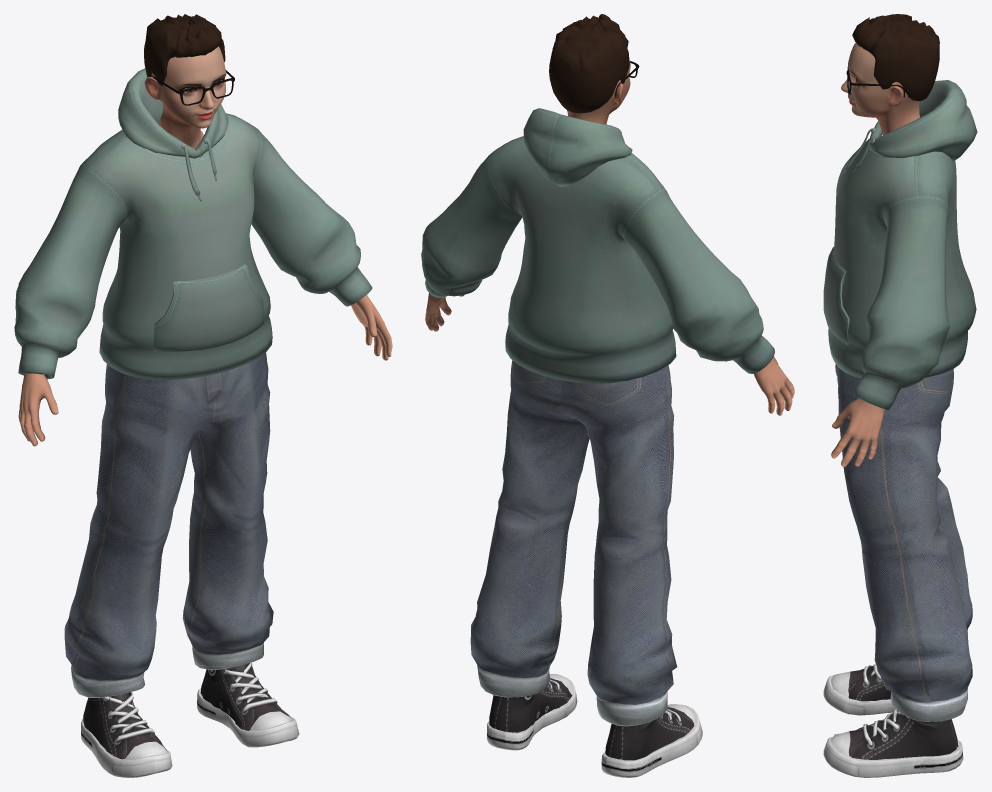
3 renders of one model, left to right at view 1: azimuth 30°, elevation 25°; view 2: azimuth 150°, elevation 25°; view 3: azimuth 270°, elevation 25°, orthographic.
Parts seen in each view (by area): view 1: Wolf3D_Outfit_Top, Wolf3D_Outfit_Bottom, Wolf3D_Outfit_Footwear, Wolf3D_Head, Wolf3D_Hair, Wolf3D_Body; view 2: Wolf3D_Outfit_Top, Wolf3D_Outfit_Bottom, Wolf3D_Outfit_Footwear, Wolf3D_Hair, Wolf3D_Body, Wolf3D_Head; view 3: Wolf3D_Outfit_Top, Wolf3D_Outfit_Bottom, Wolf3D_Outfit_Footwear, Wolf3D_Hair, Wolf3D_Head, Wolf3D_Body.
Boxes of the visible parts, left/top/right/bottom form: Wolf3D_Outfit_Top: left=14, top=68, right=372, bottom=379; Wolf3D_Outfit_Bottom: left=64, top=352, right=273, bottom=697; Wolf3D_Outfit_Footwear: left=81, top=662, right=299, bottom=777; Wolf3D_Head: left=144, top=46, right=226, bottom=149; Wolf3D_Hair: left=144, top=14, right=225, bottom=86; Wolf3D_Body: left=18, top=295, right=392, bottom=668; Wolf3D_Outfit_Top: left=421, top=108, right=774, bottom=383; Wolf3D_Outfit_Bottom: left=470, top=360, right=677, bottom=726; Wolf3D_Outfit_Footwear: left=486, top=674, right=702, bottom=777; Wolf3D_Hair: left=549, top=14, right=629, bottom=113; Wolf3D_Body: left=425, top=293, right=794, bottom=415; Wolf3D_Head: left=567, top=60, right=630, bottom=124; Wolf3D_Outfit_Top: left=823, top=80, right=977, bottom=410; Wolf3D_Outfit_Bottom: left=835, top=364, right=972, bottom=721; Wolf3D_Outfit_Footwear: left=823, top=664, right=963, bottom=777; Wolf3D_Hair: left=852, top=14, right=939, bottom=101; Wolf3D_Head: left=841, top=43, right=919, bottom=135; Wolf3D_Body: left=831, top=398, right=884, bottom=466.
Size of the model in its own units: 0.9283 by 1.77 by 0.3446.
Materials: 10 (10 with a texture image).
